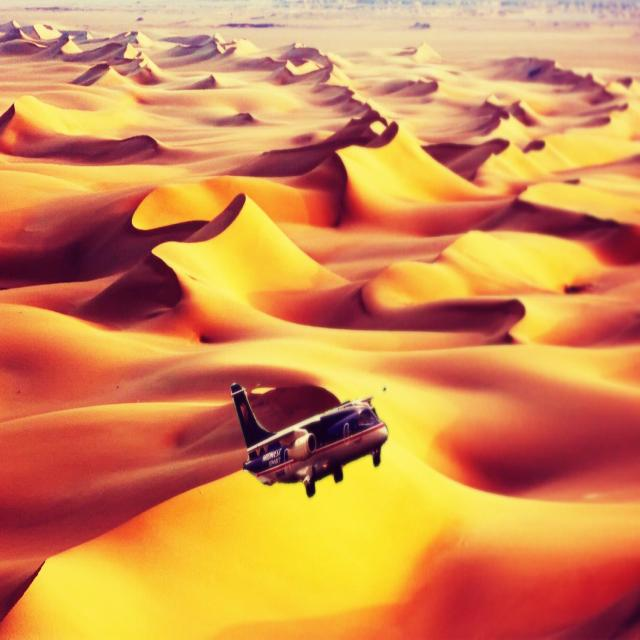airplane: (230, 380, 388, 498)
